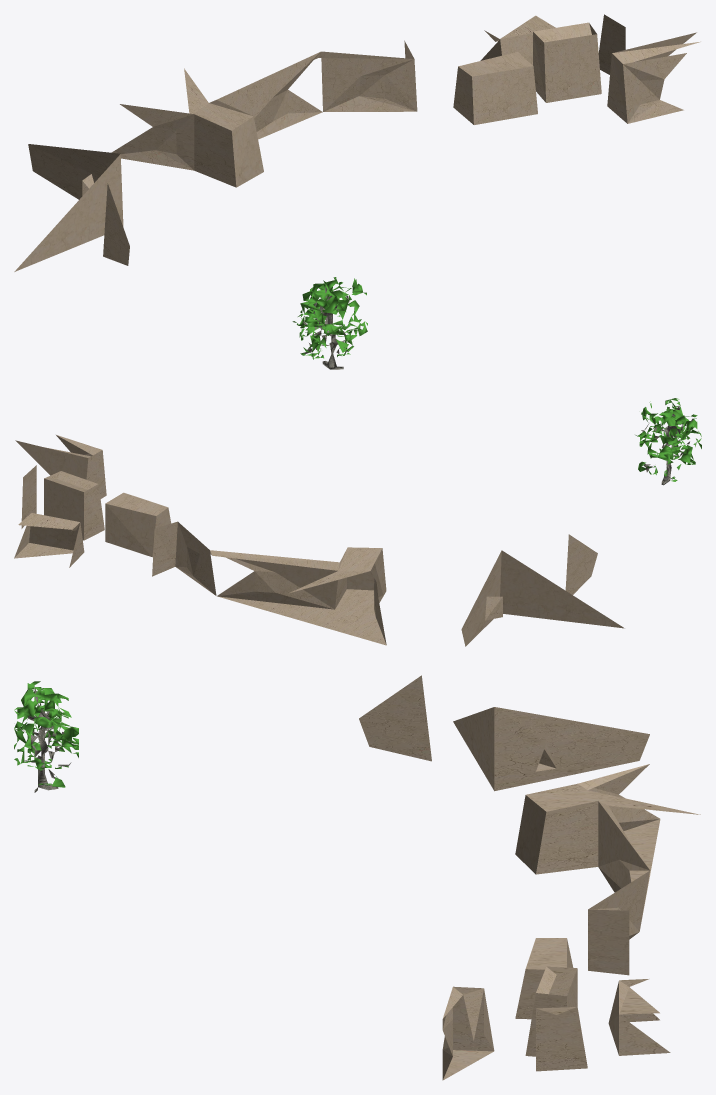
The model's file is tile_-1_-1.gltf.
3 renders of one model, top to bottom at view 1: azimuth 30°, elevation 25°; view 2: azimuth 150°, elevation 25°; view 3: azimuth 270°, elevation 25°, orthographic. The views are drawn at different scales.
Visible parts, largest first — view 1: Plane.011@tile_-1_-1, Bodhi Tree_Bodhi_front_2_Mat_0.044@tile_-1_-1; view 2: Plane.011@tile_-1_-1, Bodhi Tree_Bodhi_front_2_Mat_0.044@tile_-1_-1; view 3: Plane.011@tile_-1_-1, Bodhi Tree_Bodhi_front_2_Mat_0.044@tile_-1_-1.
Part boxes in pixels (x1,y1,x2,y2): Plane.011@tile_-1_-1: [14, 14, 700, 271]; Bodhi Tree_Bodhi_front_2_Mat_0.044@tile_-1_-1: [292, 277, 367, 369]; Plane.011@tile_-1_-1: [14, 435, 624, 646]; Bodhi Tree_Bodhi_front_2_Mat_0.044@tile_-1_-1: [635, 398, 701, 485]; Plane.011@tile_-1_-1: [359, 675, 700, 1080]; Bodhi Tree_Bodhi_front_2_Mat_0.044@tile_-1_-1: [14, 681, 78, 792].
Size of the model in its own units: 77.96 by 10.34 by 59.69.
Materials: 3 (2 with a texture image).
